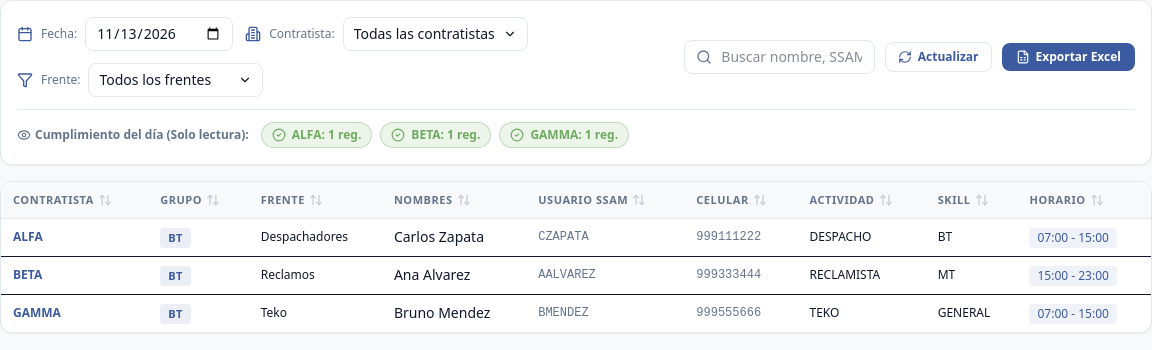
AdminTurnsView multi-select filters and table sorting › sorts table rows ascending, descending, and back to default on header click
Click the button "Nombres": (432, 200) [394,192,471,208]
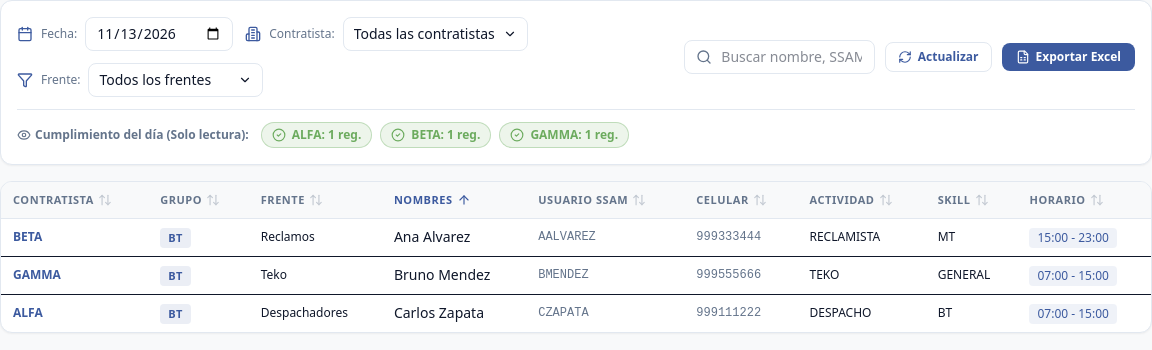
Check: the column heading "Nombres" has attribute aria-sort="ascending", box [382,182,526,218]
Click the button "Nombres": (432, 200) [394,192,471,208]
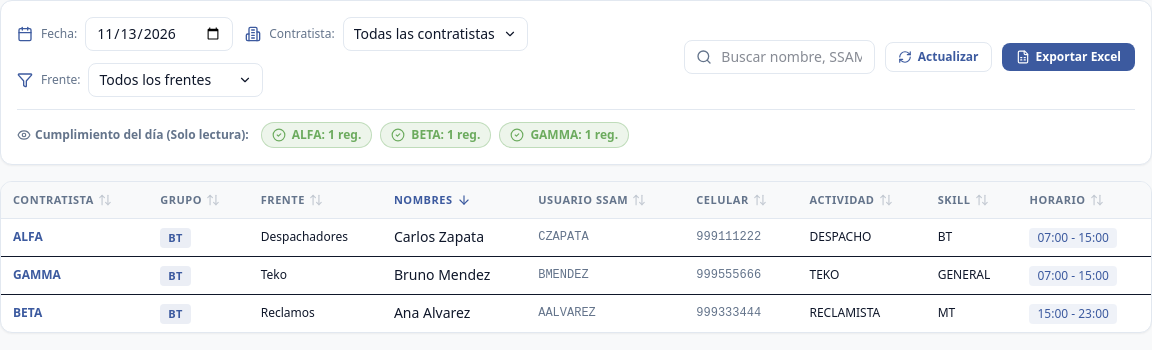
Check: the column heading "Nombres" has attribute aria-sort="descending", box [382,182,526,218]
Click the button "Nombres": (432, 200) [394,192,471,208]
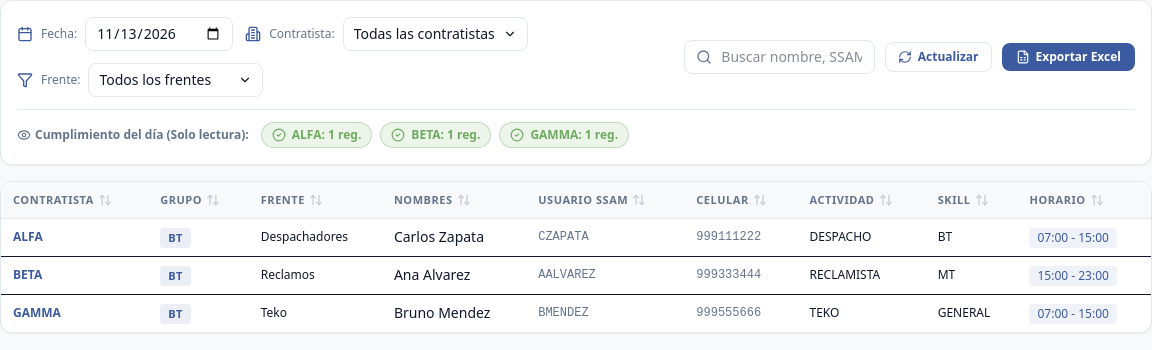
Check: the column heading "Nombres" has attribute aria-sort="none", box [382,182,526,218]
